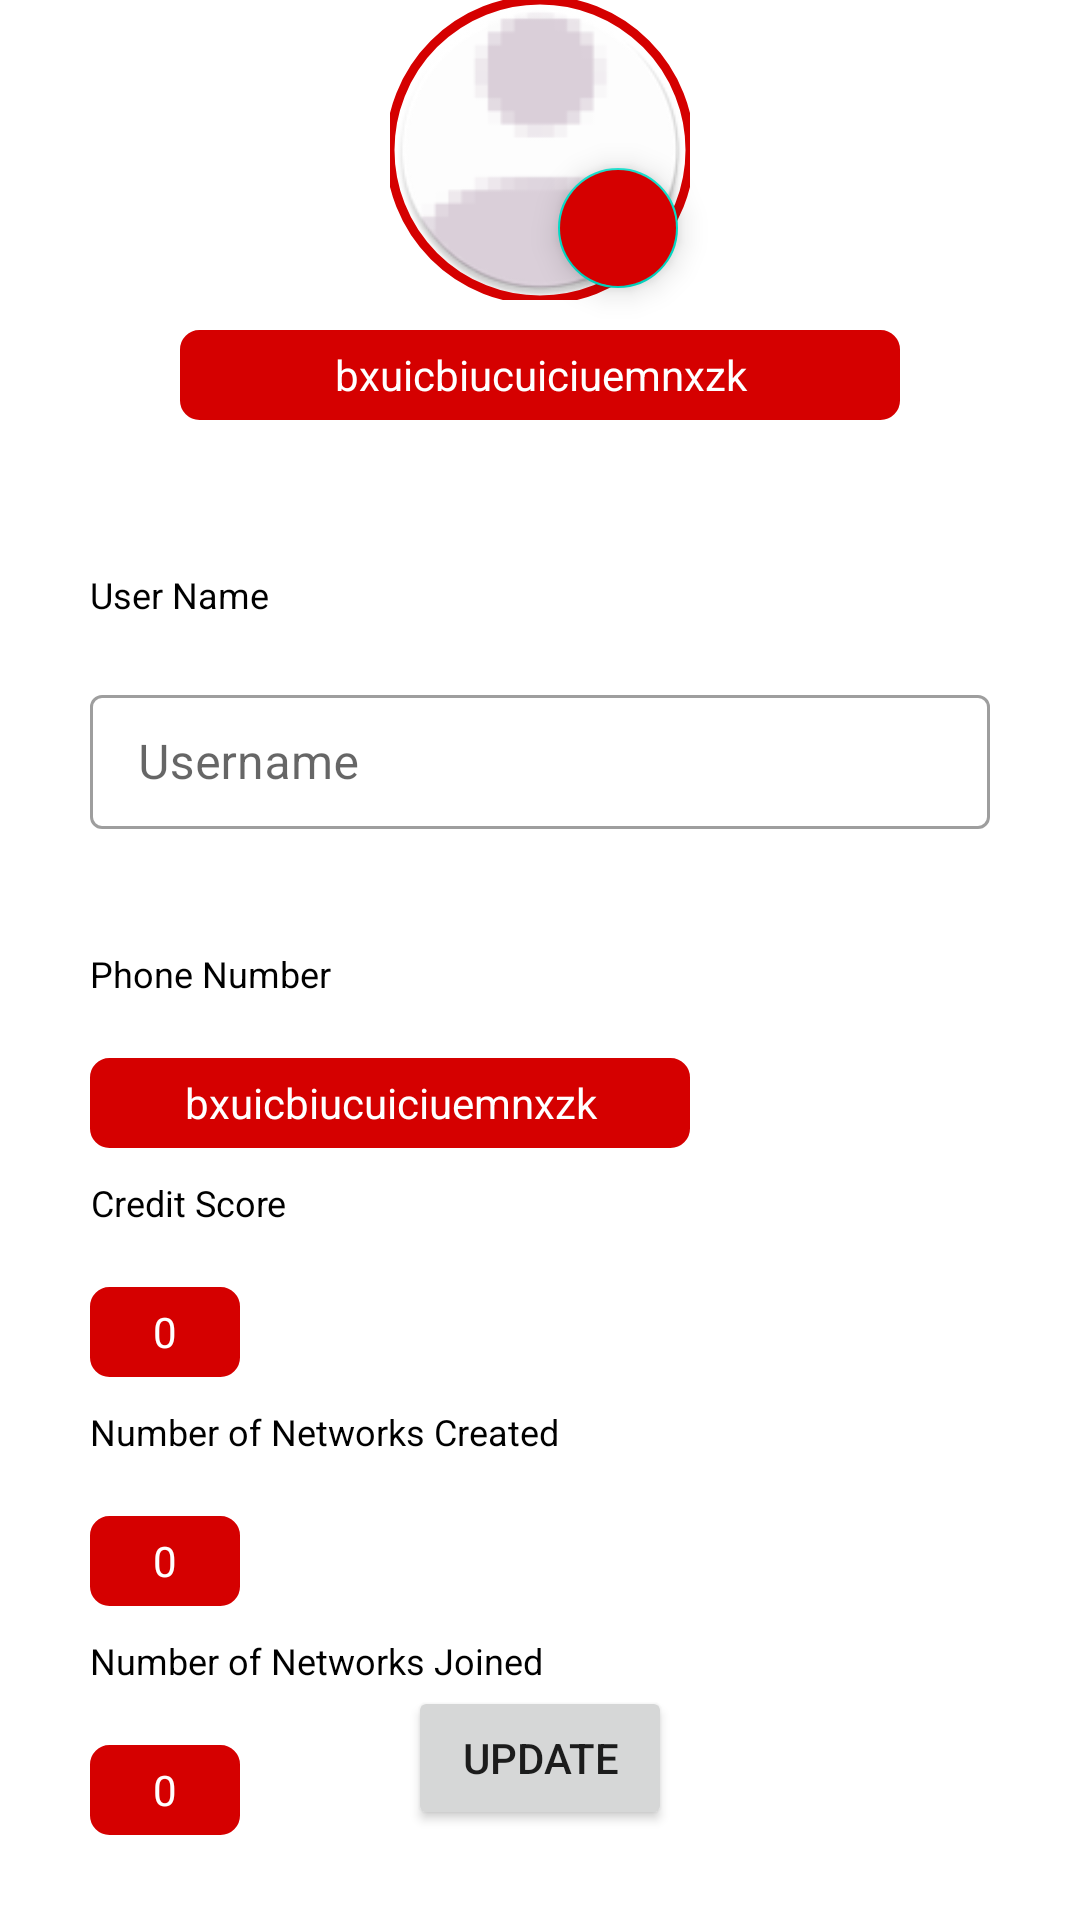

Where to tap for icons on this 1080×1920 app screen, as point (x, y):
profile pic round: point (540, 150)
